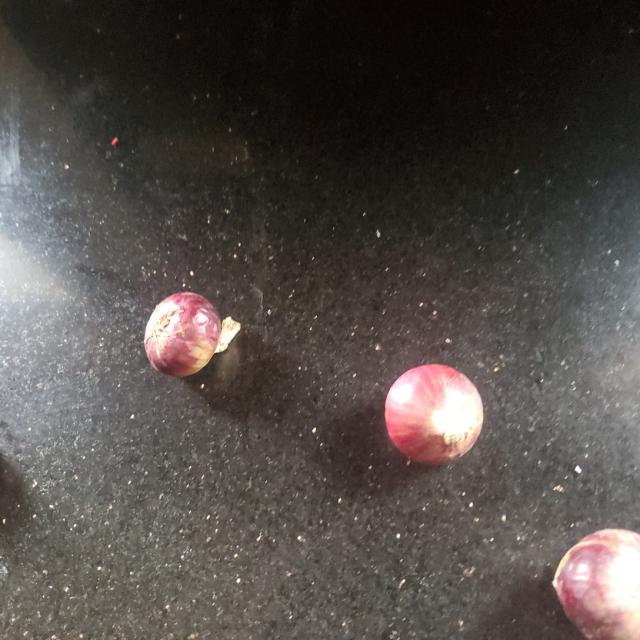onion: (382, 366, 484, 468), (552, 526, 639, 638), (146, 291, 226, 373)
